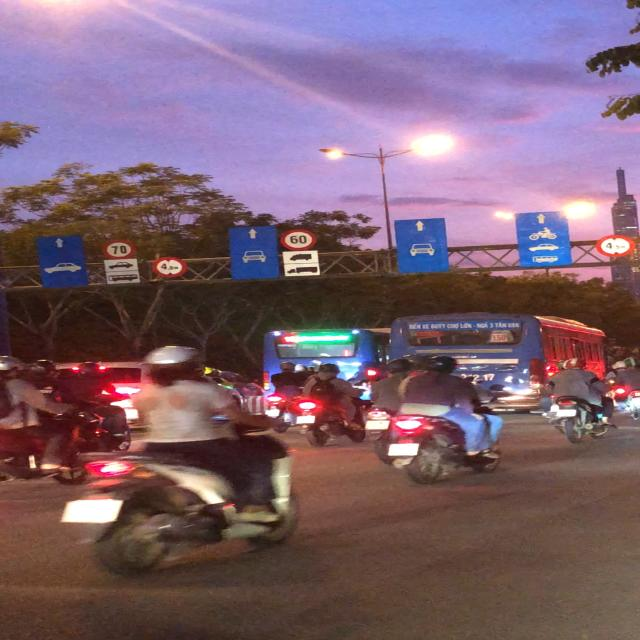Bien bao han che chieu cao: (594, 232, 639, 260), (147, 254, 189, 278)
Bien bao toc do toi da cho phep: (277, 226, 316, 251), (98, 237, 137, 259)
